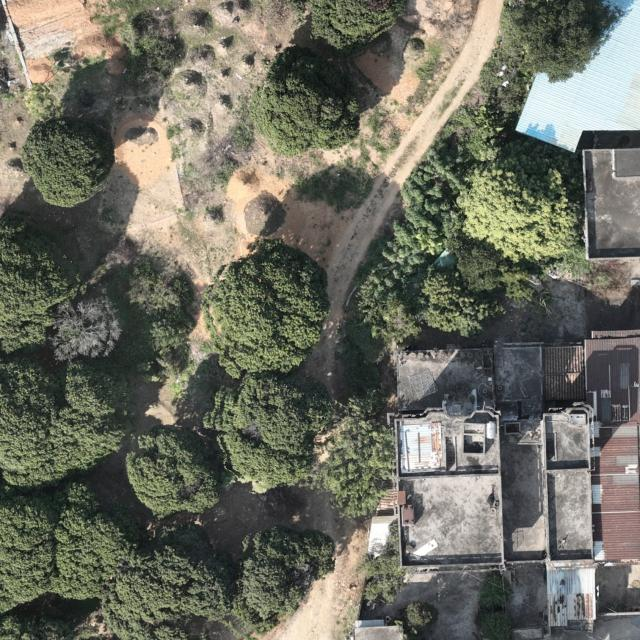Tree: (201, 236, 331, 382), (0, 352, 127, 492), (458, 135, 586, 265), (202, 368, 336, 489), (98, 522, 233, 640), (249, 43, 361, 159), (0, 214, 89, 355), (233, 525, 338, 637), (47, 477, 140, 602), (509, 0, 626, 84), (125, 423, 224, 522), (324, 395, 396, 518), (20, 116, 116, 208), (0, 490, 60, 613), (44, 286, 124, 362), (308, 0, 407, 50), (356, 524, 405, 610)
